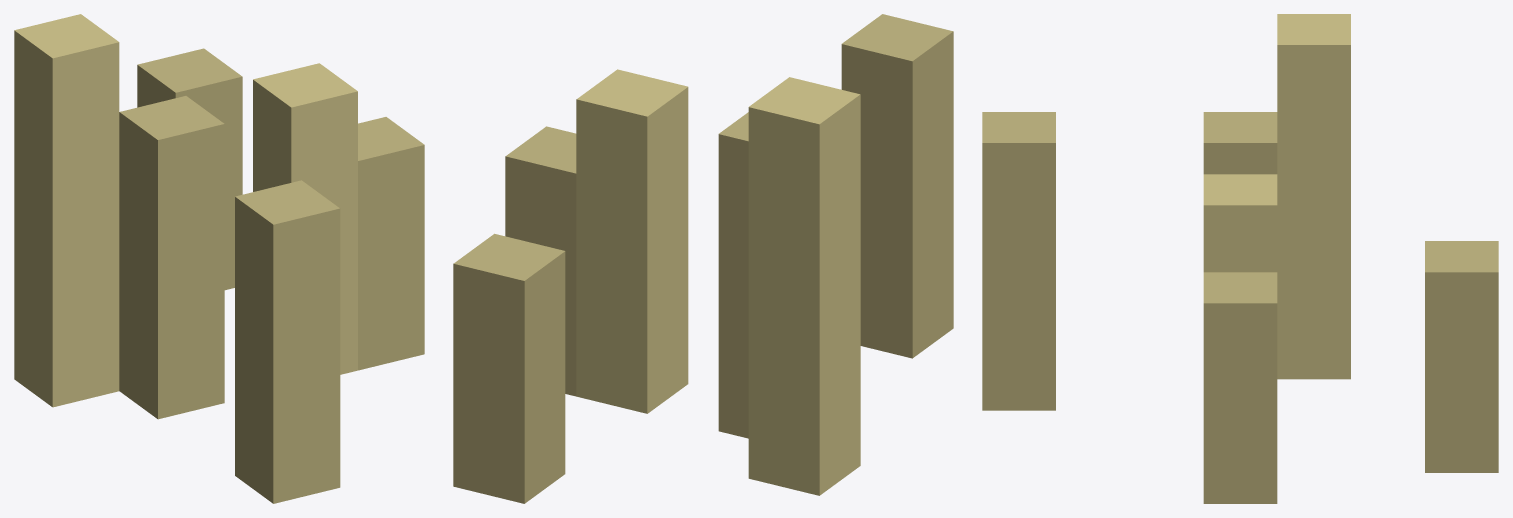
File: cebada_silvestre_05.glb
3 views of the same model, side by side, from view 1: azimuth 30°, elevation 25°; view 2: azimuth 150°, elevation 25°; view 3: azimuth 270°, elevation 25° (orthographic). The views are drawn at different scales.
Visible parts, largest first — view 1: cebada_silvestre_05; view 2: cebada_silvestre_05; view 3: cebada_silvestre_05.
Boxes of the visible parts, x1=… form: cebada_silvestre_05: x1=14, y1=14, x2=424, y2=503; cebada_silvestre_05: x1=453, y1=14, x2=953, y2=503; cebada_silvestre_05: x1=982, y1=14, x2=1498, y2=503.
Size of the model in its own units: 0.5 by 0.5 by 0.7.
